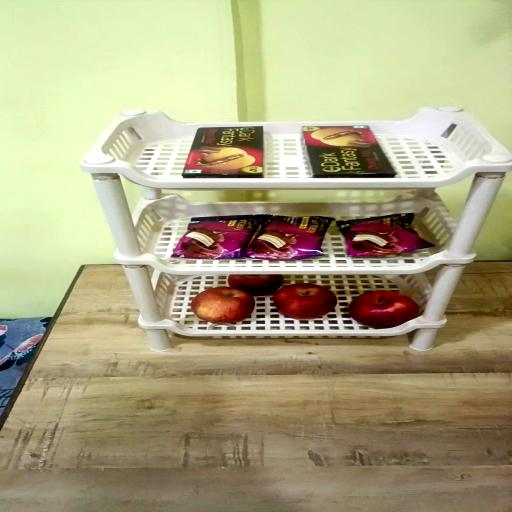Apple: (349, 292, 419, 328), (191, 288, 255, 324), (275, 284, 337, 320), (228, 275, 282, 296)
Choco Fills: (302, 124, 396, 177), (183, 126, 266, 177)
Choco Pie: (338, 215, 434, 259), (174, 217, 268, 260), (246, 216, 333, 260)
